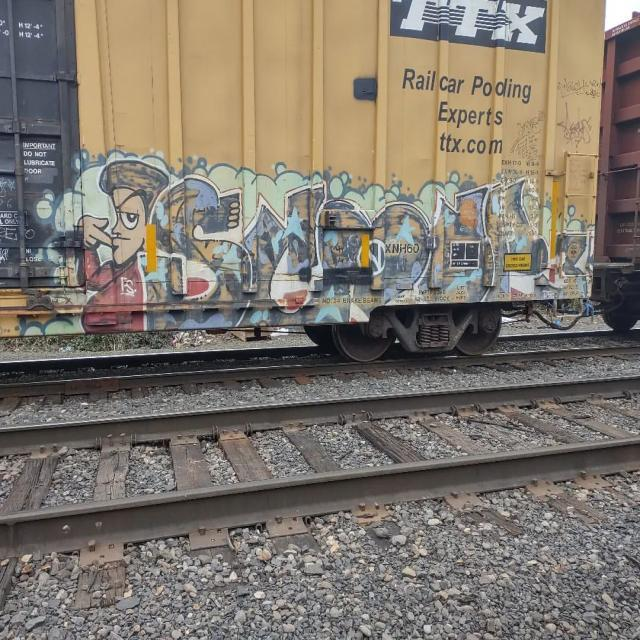-: (142, 162, 618, 342), (20, 122, 162, 344), (385, 41, 555, 168), (387, 0, 549, 51)
